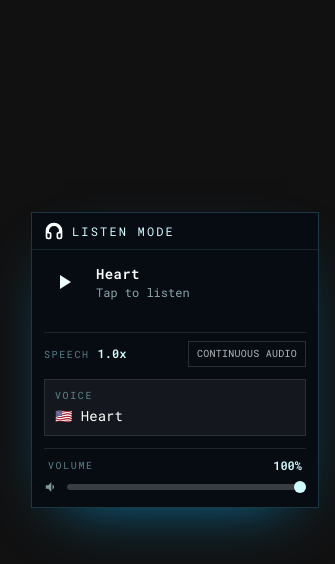
Test: TTSPlayer voice changes › dismisses the recommendation while preserving the preferred voice
The width and height of the screenshot is (335, 564).
Click the 1st button at (64, 282), box x1=44 y1=262 x2=84 y2=302
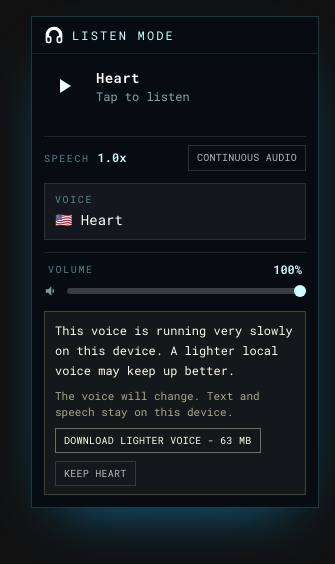
Click the button "Keep Heart" at (95, 474), box x1=55 y1=461 x2=136 y2=486
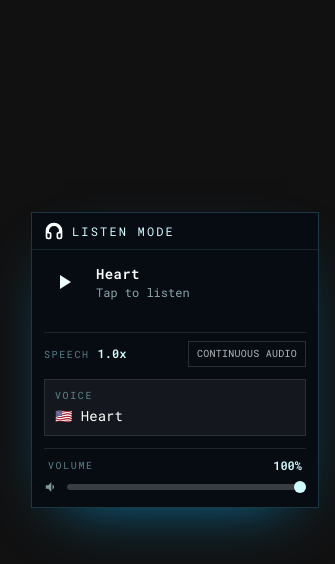
Check: the message with test id "tts-fallback-recommendation" is gone
